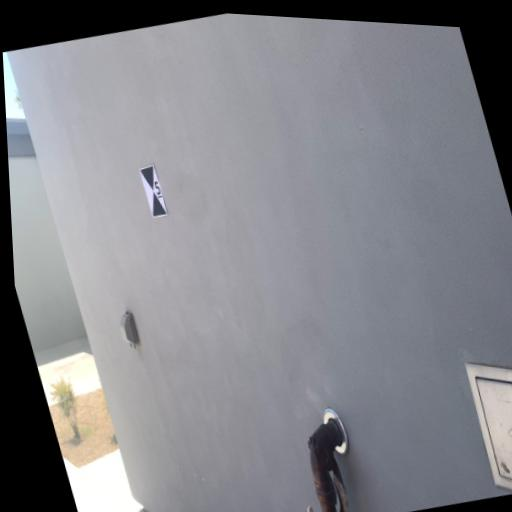target5: (139, 166, 169, 218)
